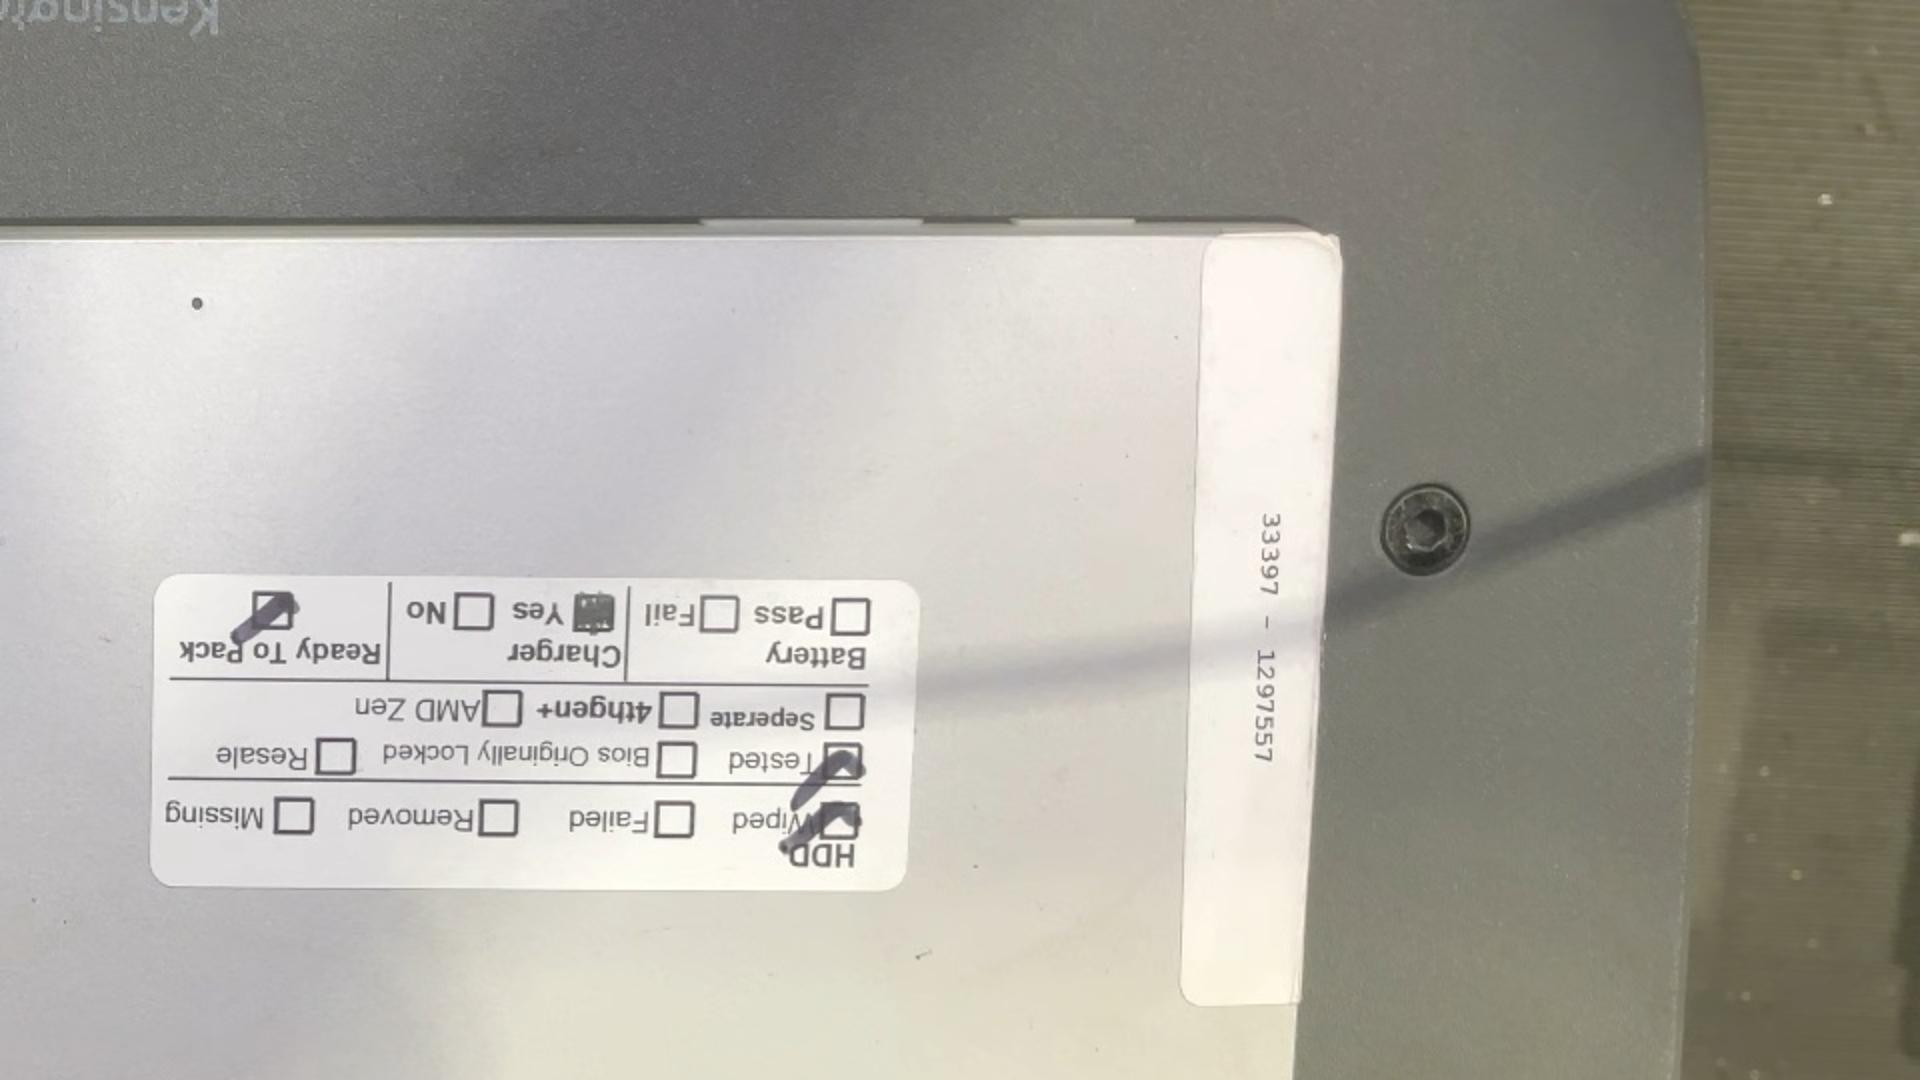scratches: (910, 945, 936, 967)
